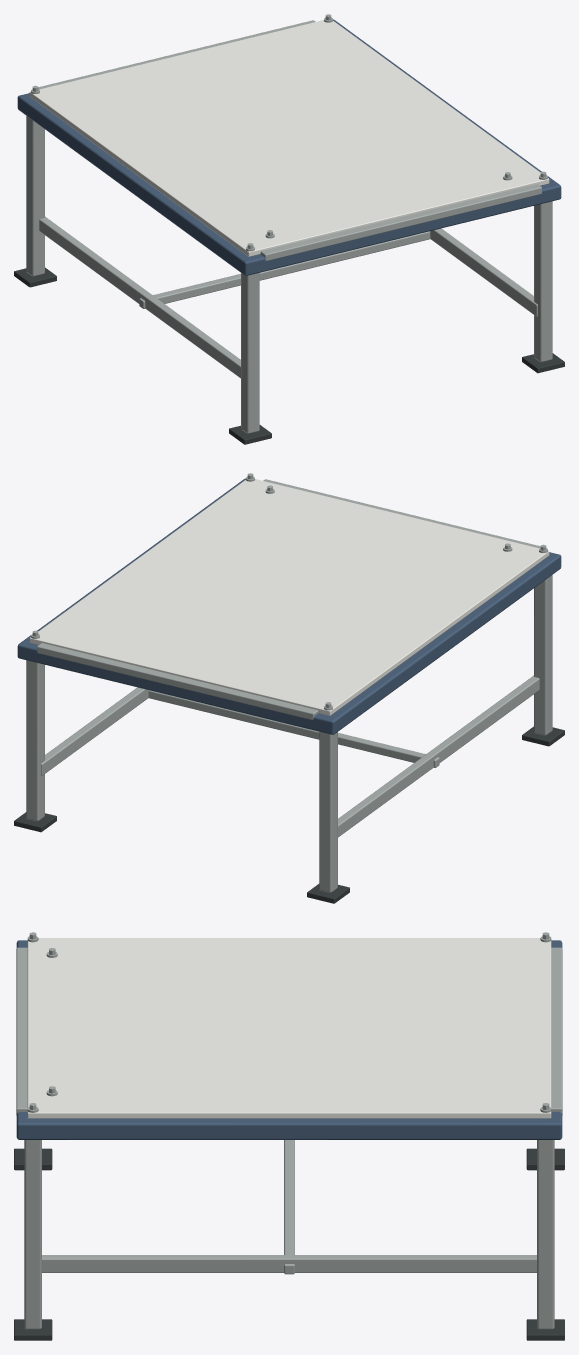
The model's file is spacecraft-parachute-packing-hall-spacecraft-parachute-75bf1d32__32077.glb.
3 renders of one model, top to bottom at view 1: azimuth 30°, elevation 25°; view 2: azimuth 150°, elevation 25°; view 3: azimuth 270°, elevation 25°, orthographic. The views are drawn at different scales.
Visible parts, largest first — view 1: spacecraft-parachute-packing-hall-table-extension-bridge; view 2: spacecraft-parachute-packing-hall-table-extension-bridge; view 3: spacecraft-parachute-packing-hall-table-extension-bridge.
Part boxes in pixels (x1,y1,x2,y2): spacecraft-parachute-packing-hall-table-extension-bridge: (14, 14, 564, 444); spacecraft-parachute-packing-hall-table-extension-bridge: (14, 473, 564, 903); spacecraft-parachute-packing-hall-table-extension-bridge: (14, 932, 564, 1340).
Bounding box in the file's own units: 1.62 × 0.927 × 2.02.
